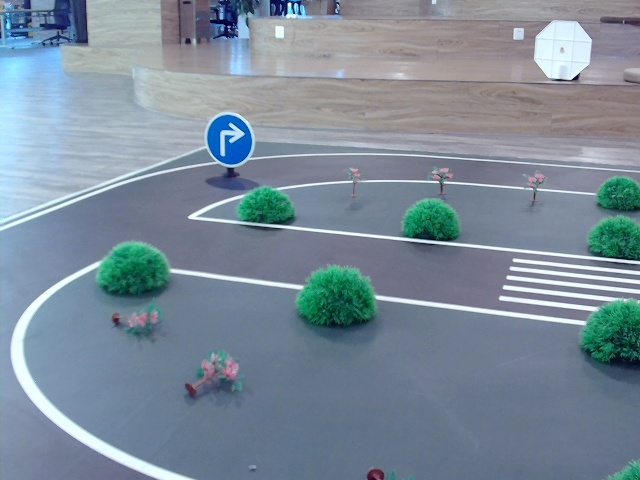turn_right: (214, 124, 244, 153)
